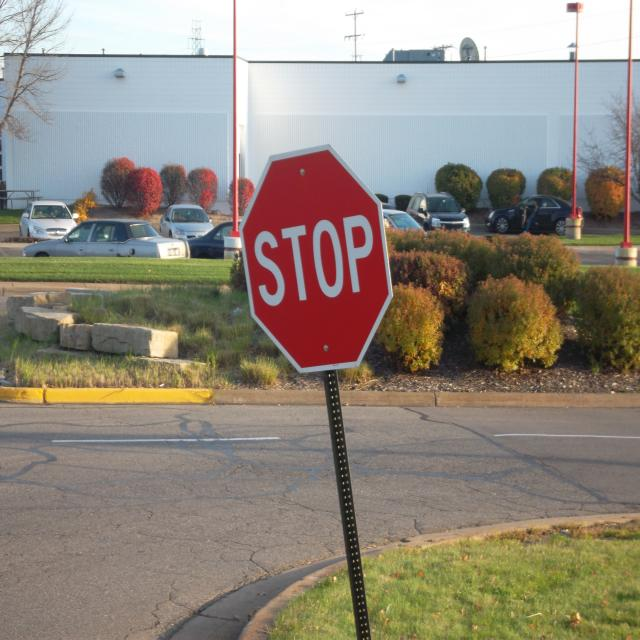stop: (238, 146, 393, 370)
